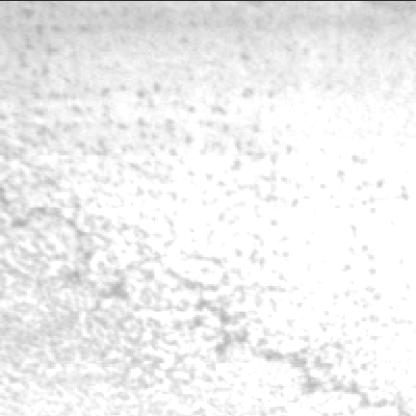pitted_surface: (13, 96, 406, 412)
